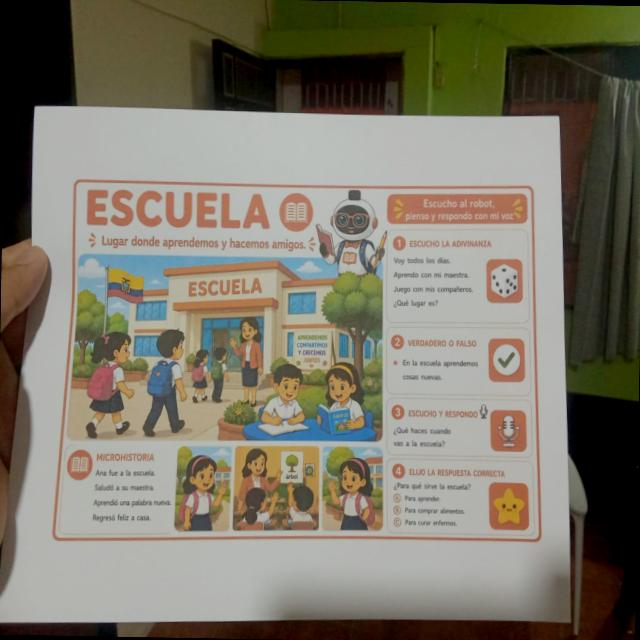escuela: (49, 172, 551, 554)
